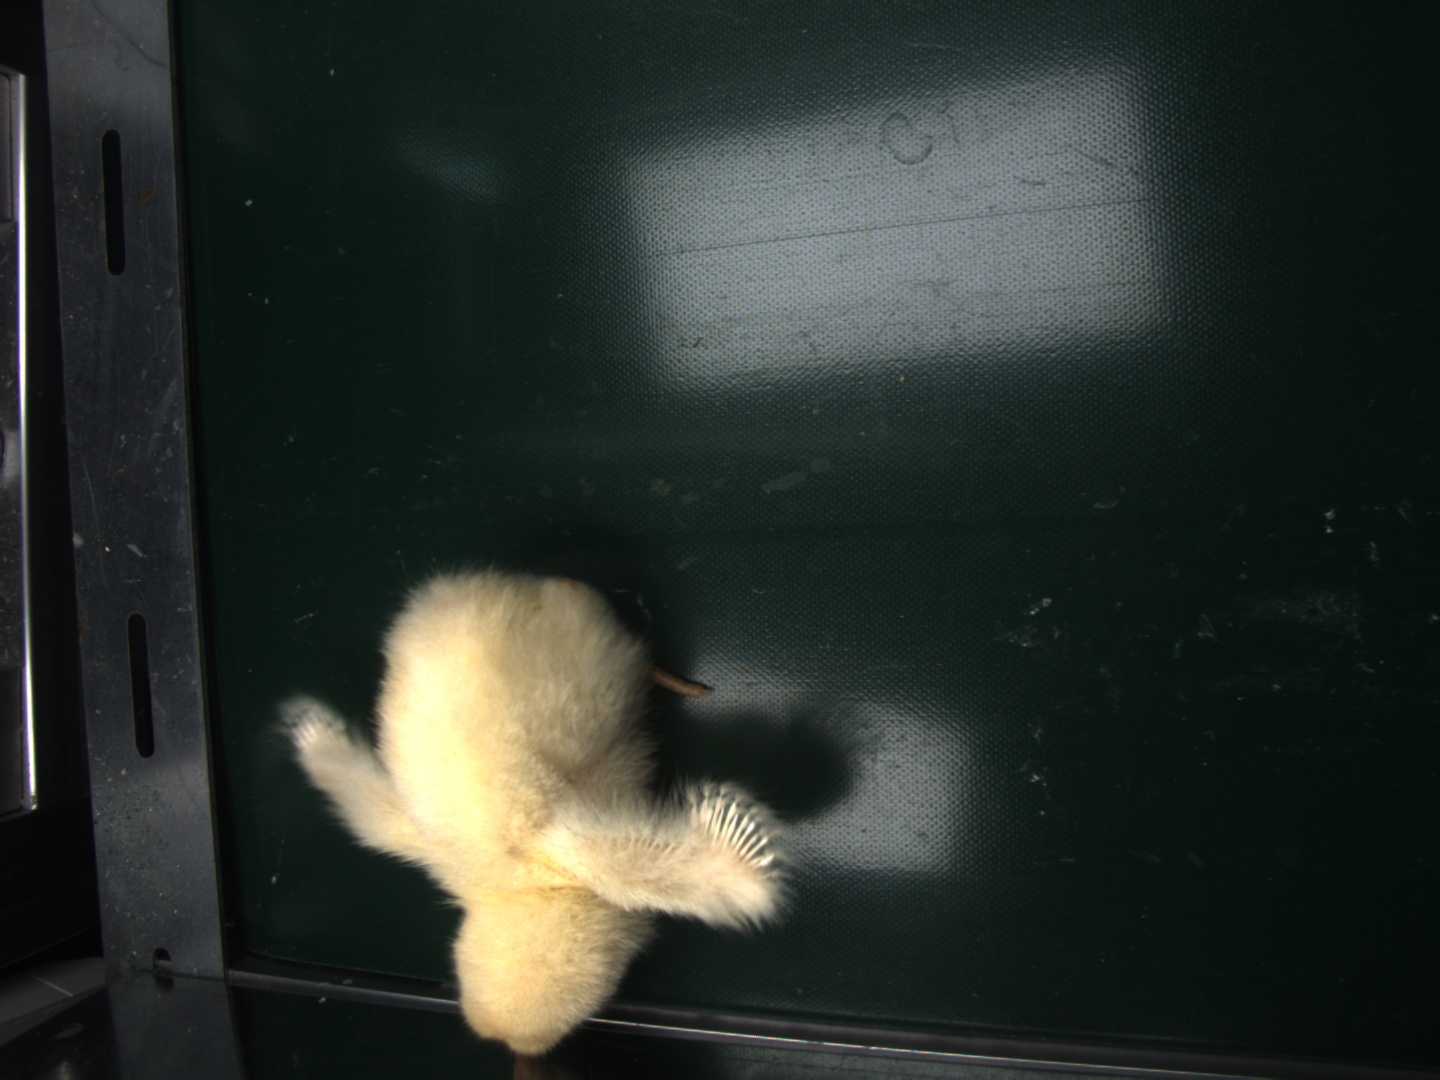male: (695, 801, 769, 868)
